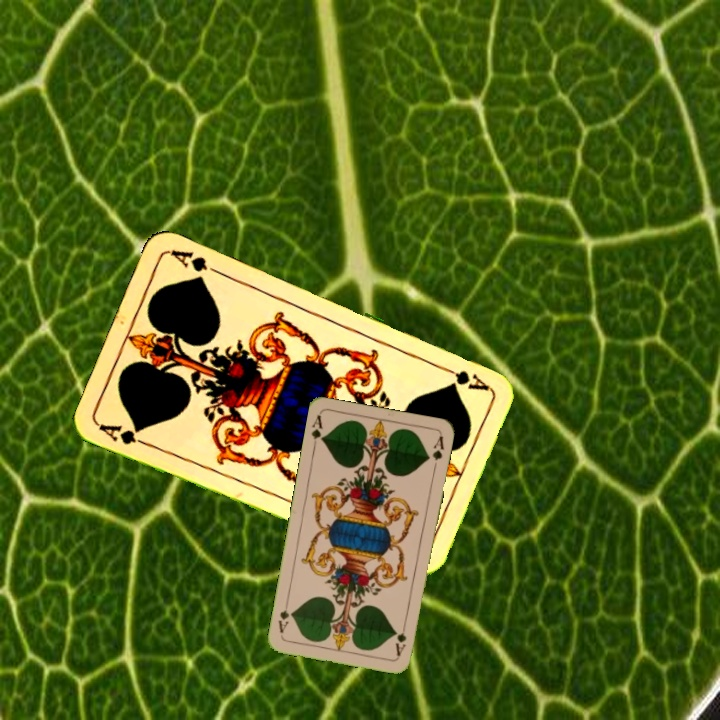GA: (434, 361, 491, 393), (95, 419, 153, 449), (307, 411, 327, 452), (392, 618, 409, 658)
